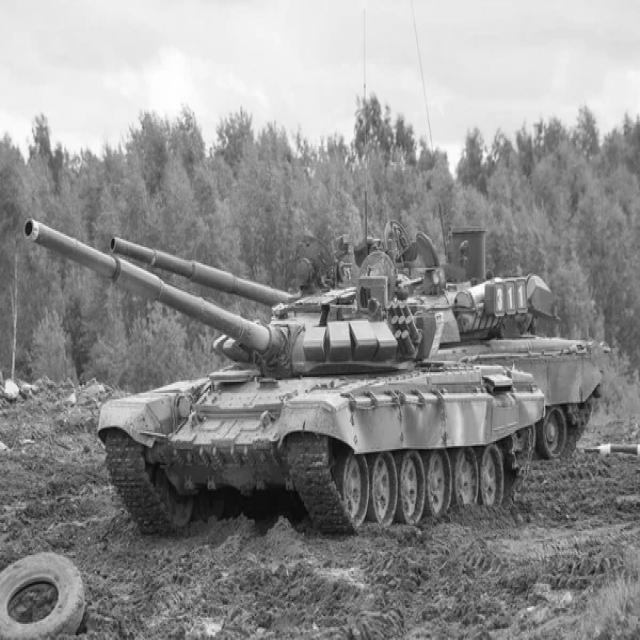Tank: (19, 174, 612, 536)
